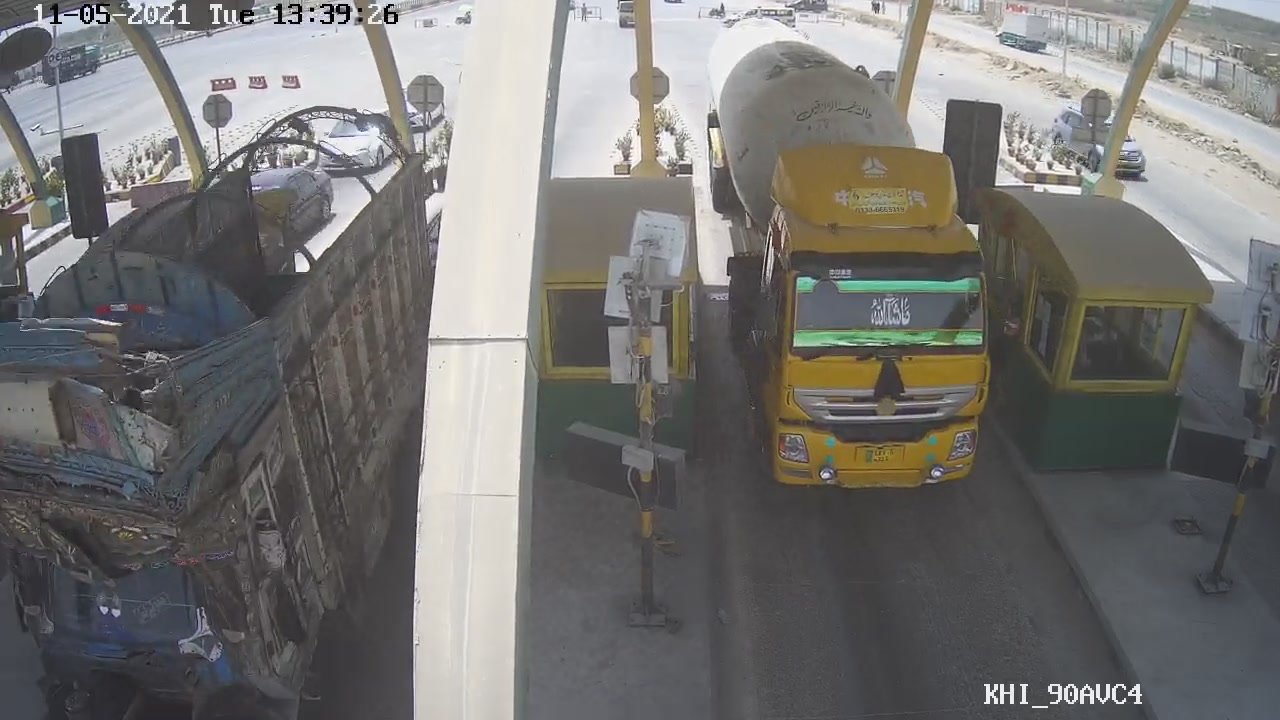F6: (711, 40, 1003, 499)
